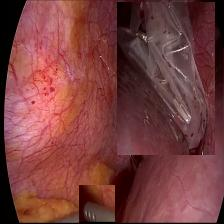Irrigator: (79, 186, 115, 223)
Specimen Bag: (118, 2, 215, 155)
